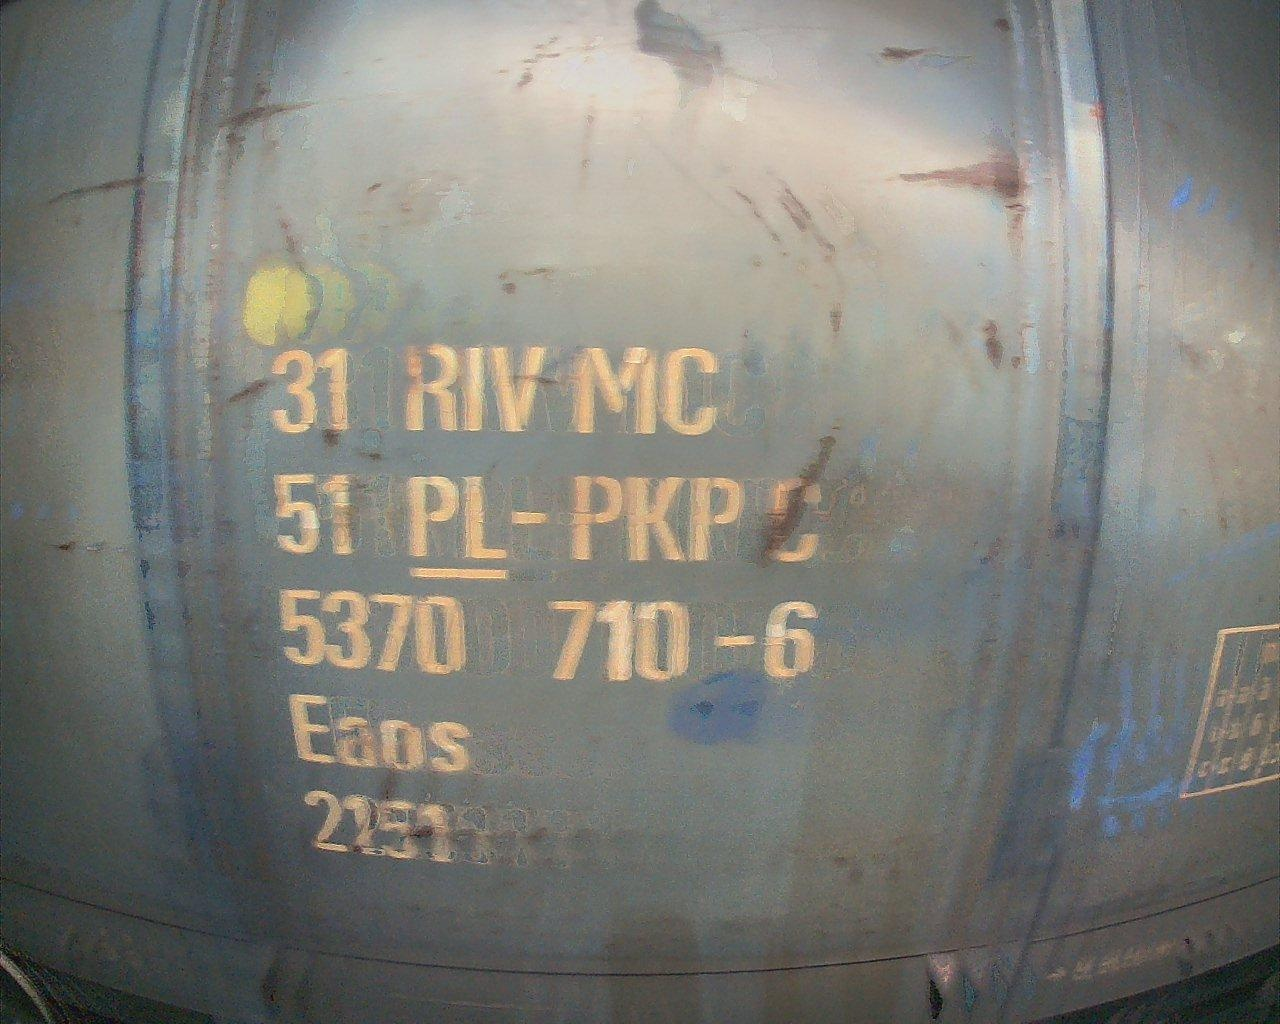UIC: (263, 340, 827, 872)
